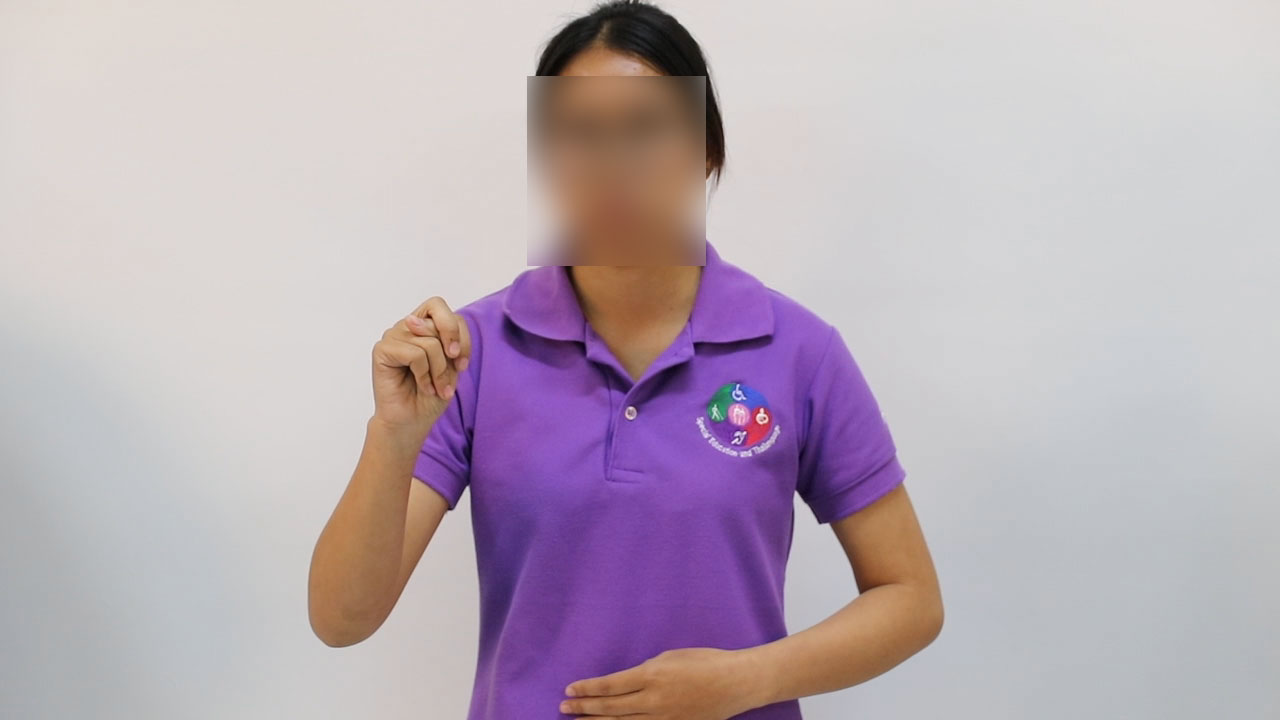nor: (351, 295, 486, 439)
